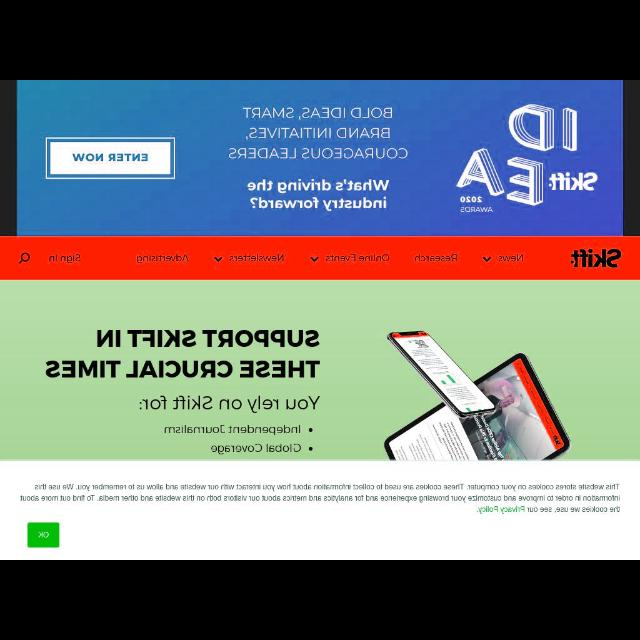icon: (480, 254, 496, 264), (18, 252, 30, 264), (310, 254, 320, 262), (214, 255, 224, 262)
iframe: (18, 81, 628, 232)
image: (320, 282, 638, 460), (570, 246, 622, 270)
spinner: (211, 250, 285, 266), (310, 252, 392, 266), (478, 252, 528, 266)
text: (20, 483, 618, 515), (45, 329, 318, 379), (227, 98, 407, 162), (245, 176, 393, 208), (140, 394, 320, 412), (166, 422, 302, 438), (212, 442, 302, 454), (230, 254, 284, 264), (326, 255, 389, 262), (412, 255, 460, 263), (499, 252, 526, 264), (48, 253, 80, 263), (137, 256, 187, 262)
textbutton: (46, 138, 172, 180)
toolbar: (0, 237, 638, 277)
